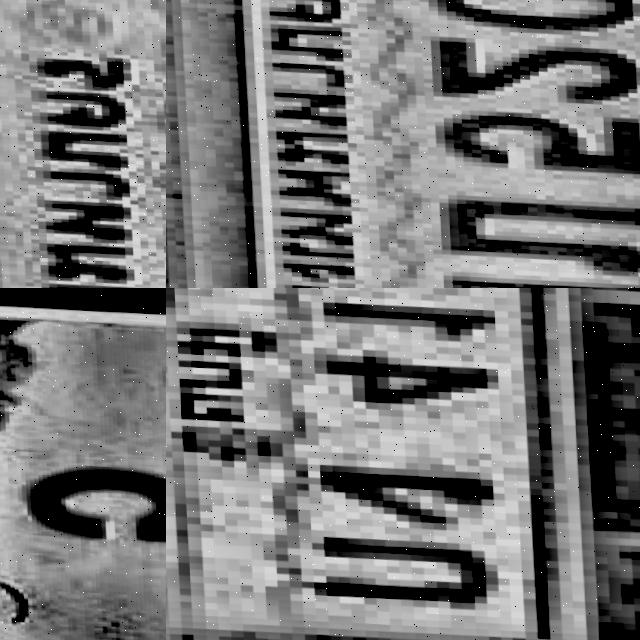license-plate: (166, 288, 640, 640), (166, 0, 640, 288), (0, 288, 166, 640), (0, 0, 166, 288)
